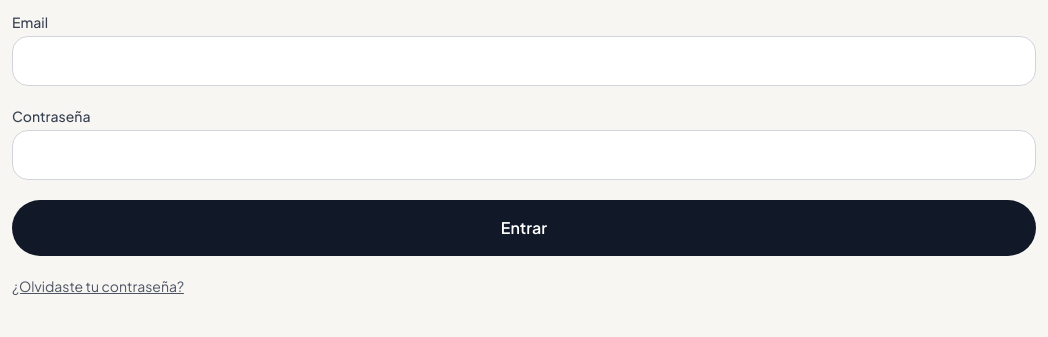
Test: message-optional states › LoginForm surfaces field errors with aria-invalid
What coordinates should you click on to do the following:
click the button "Entrar"
I would click on:
 (524, 228)
Its box is [12,200,1036,256].
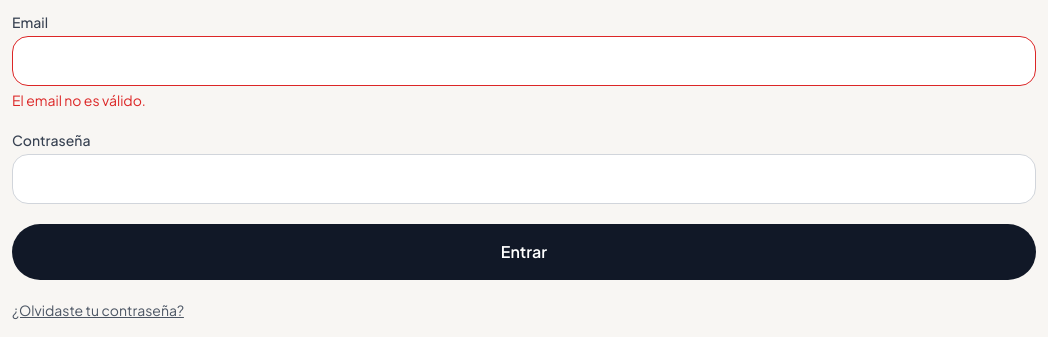
Now the text "El email no es válido." is shown, box [12,91,146,109]
